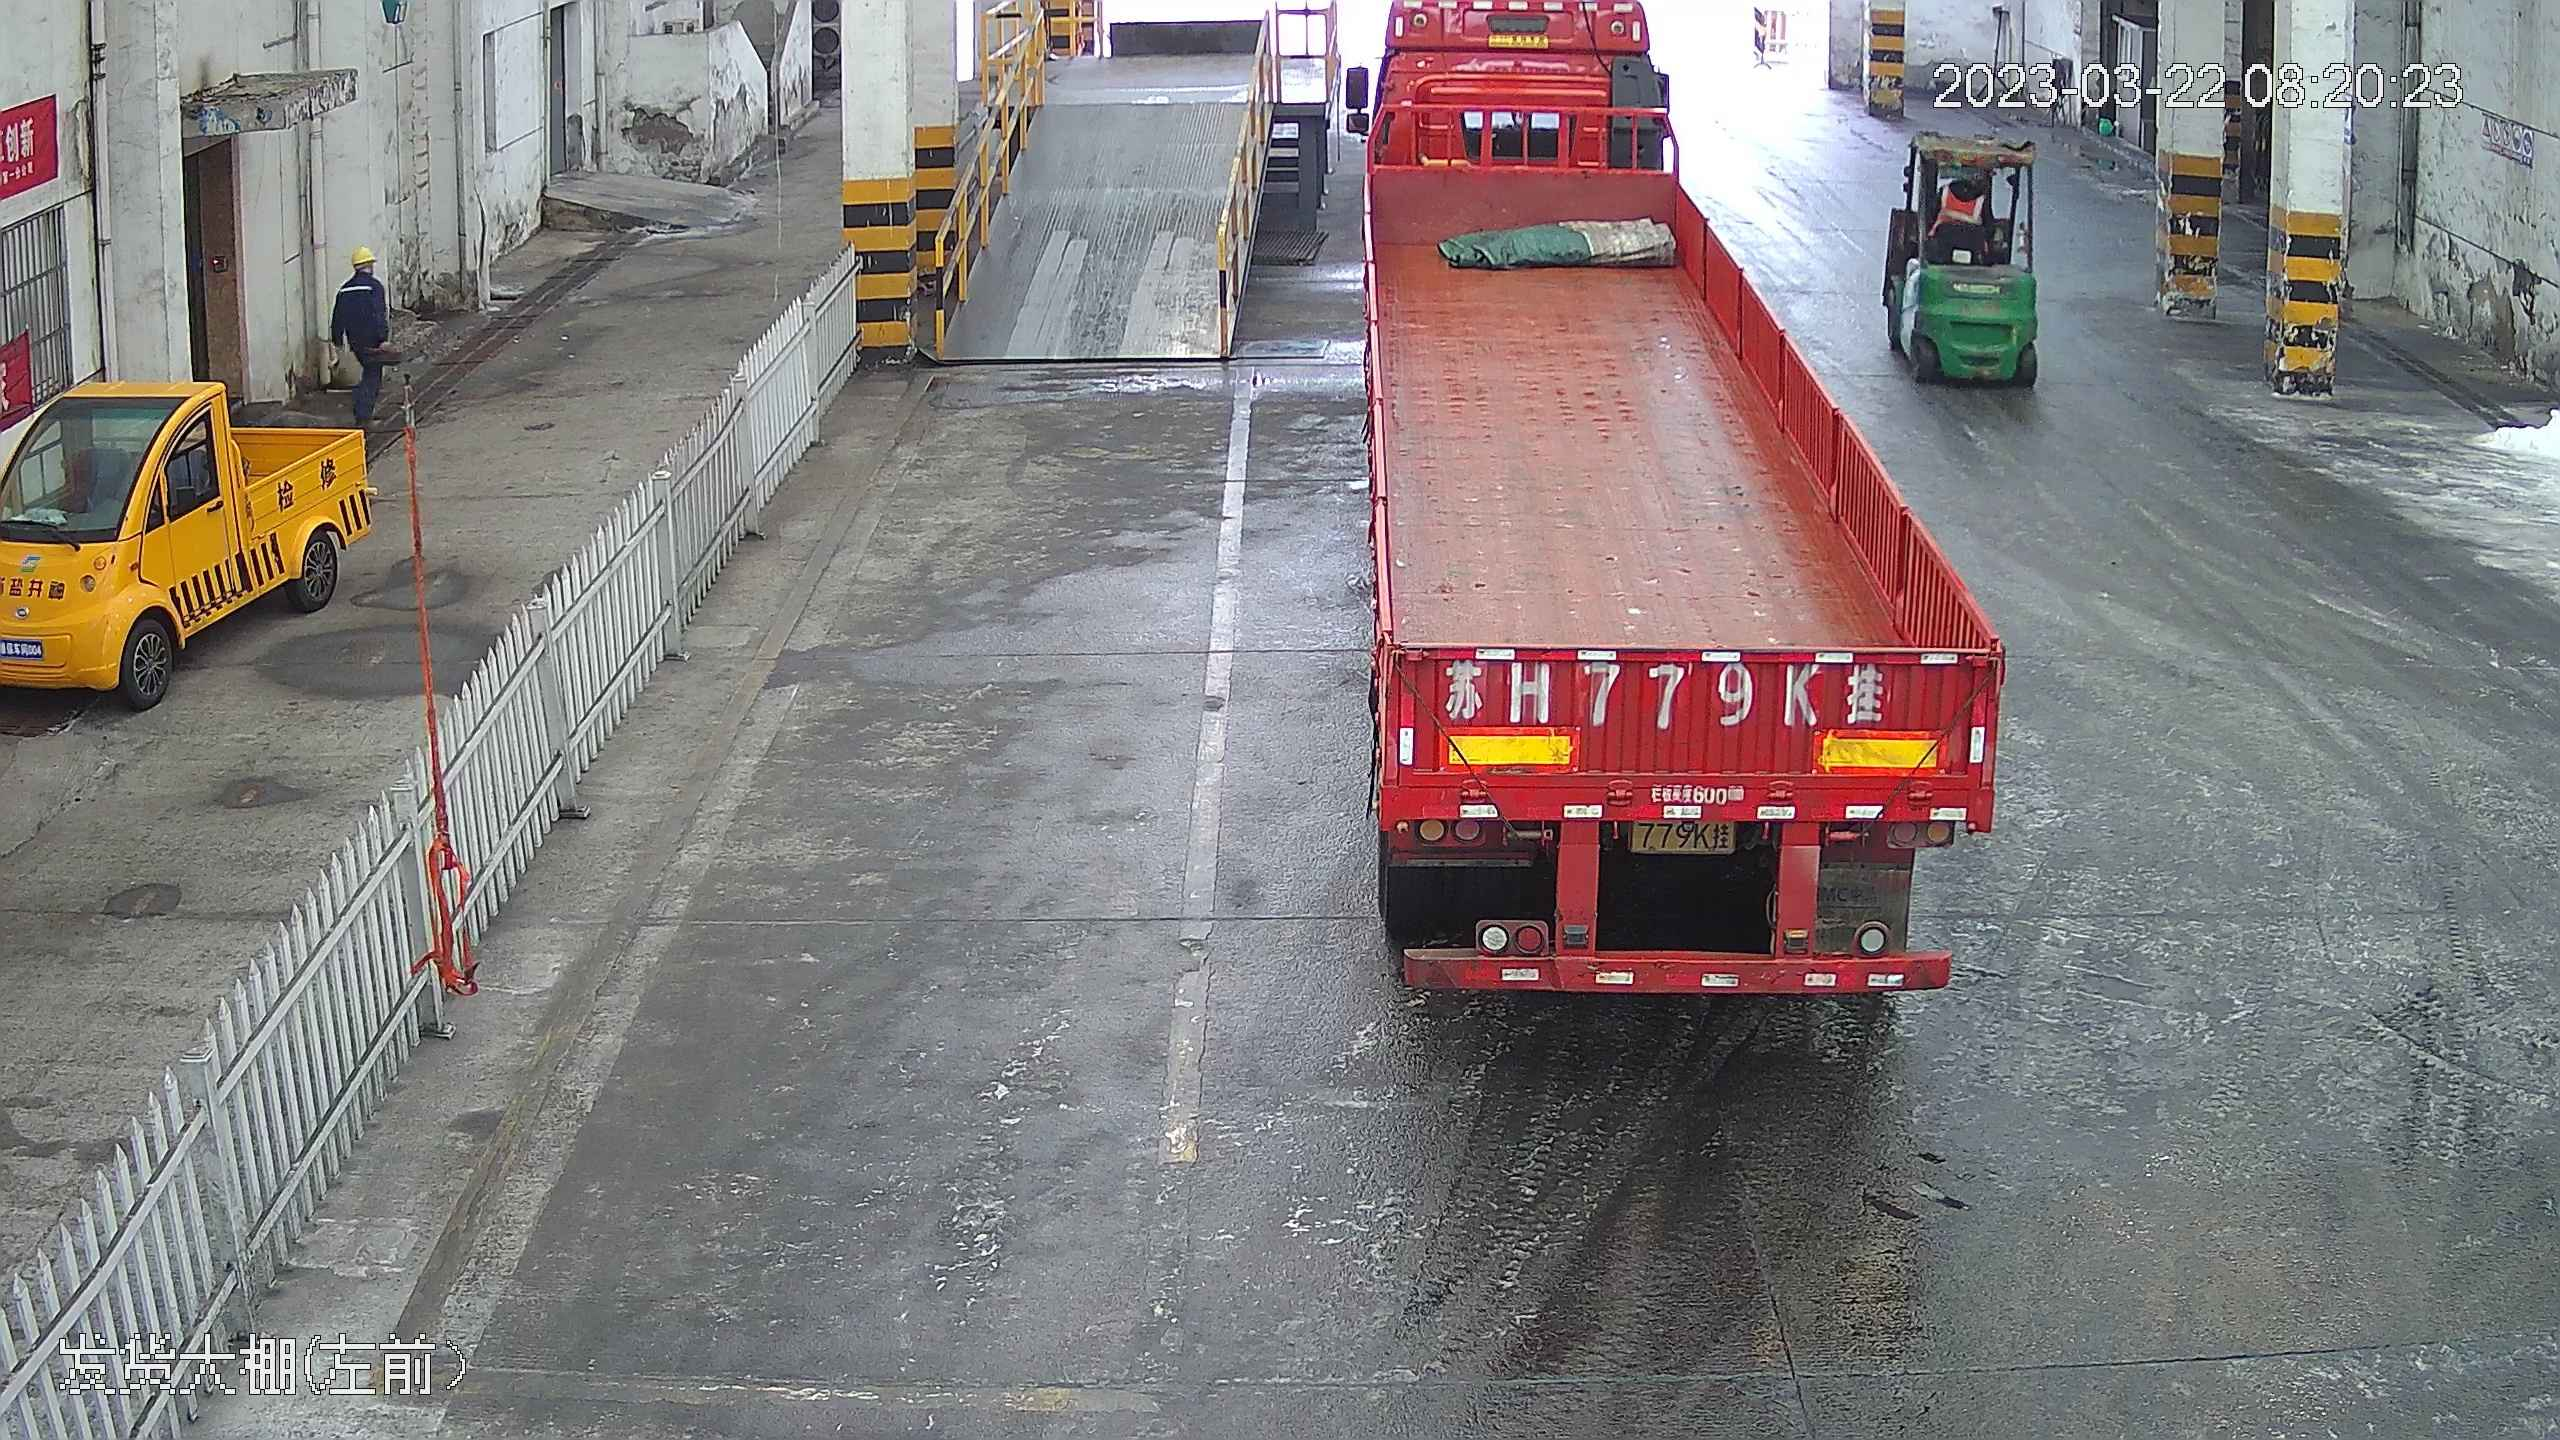head: (336, 246, 386, 301)
helmet: (350, 244, 377, 265)
people: (329, 242, 393, 438)
truck: (1341, 0, 2033, 1002)
